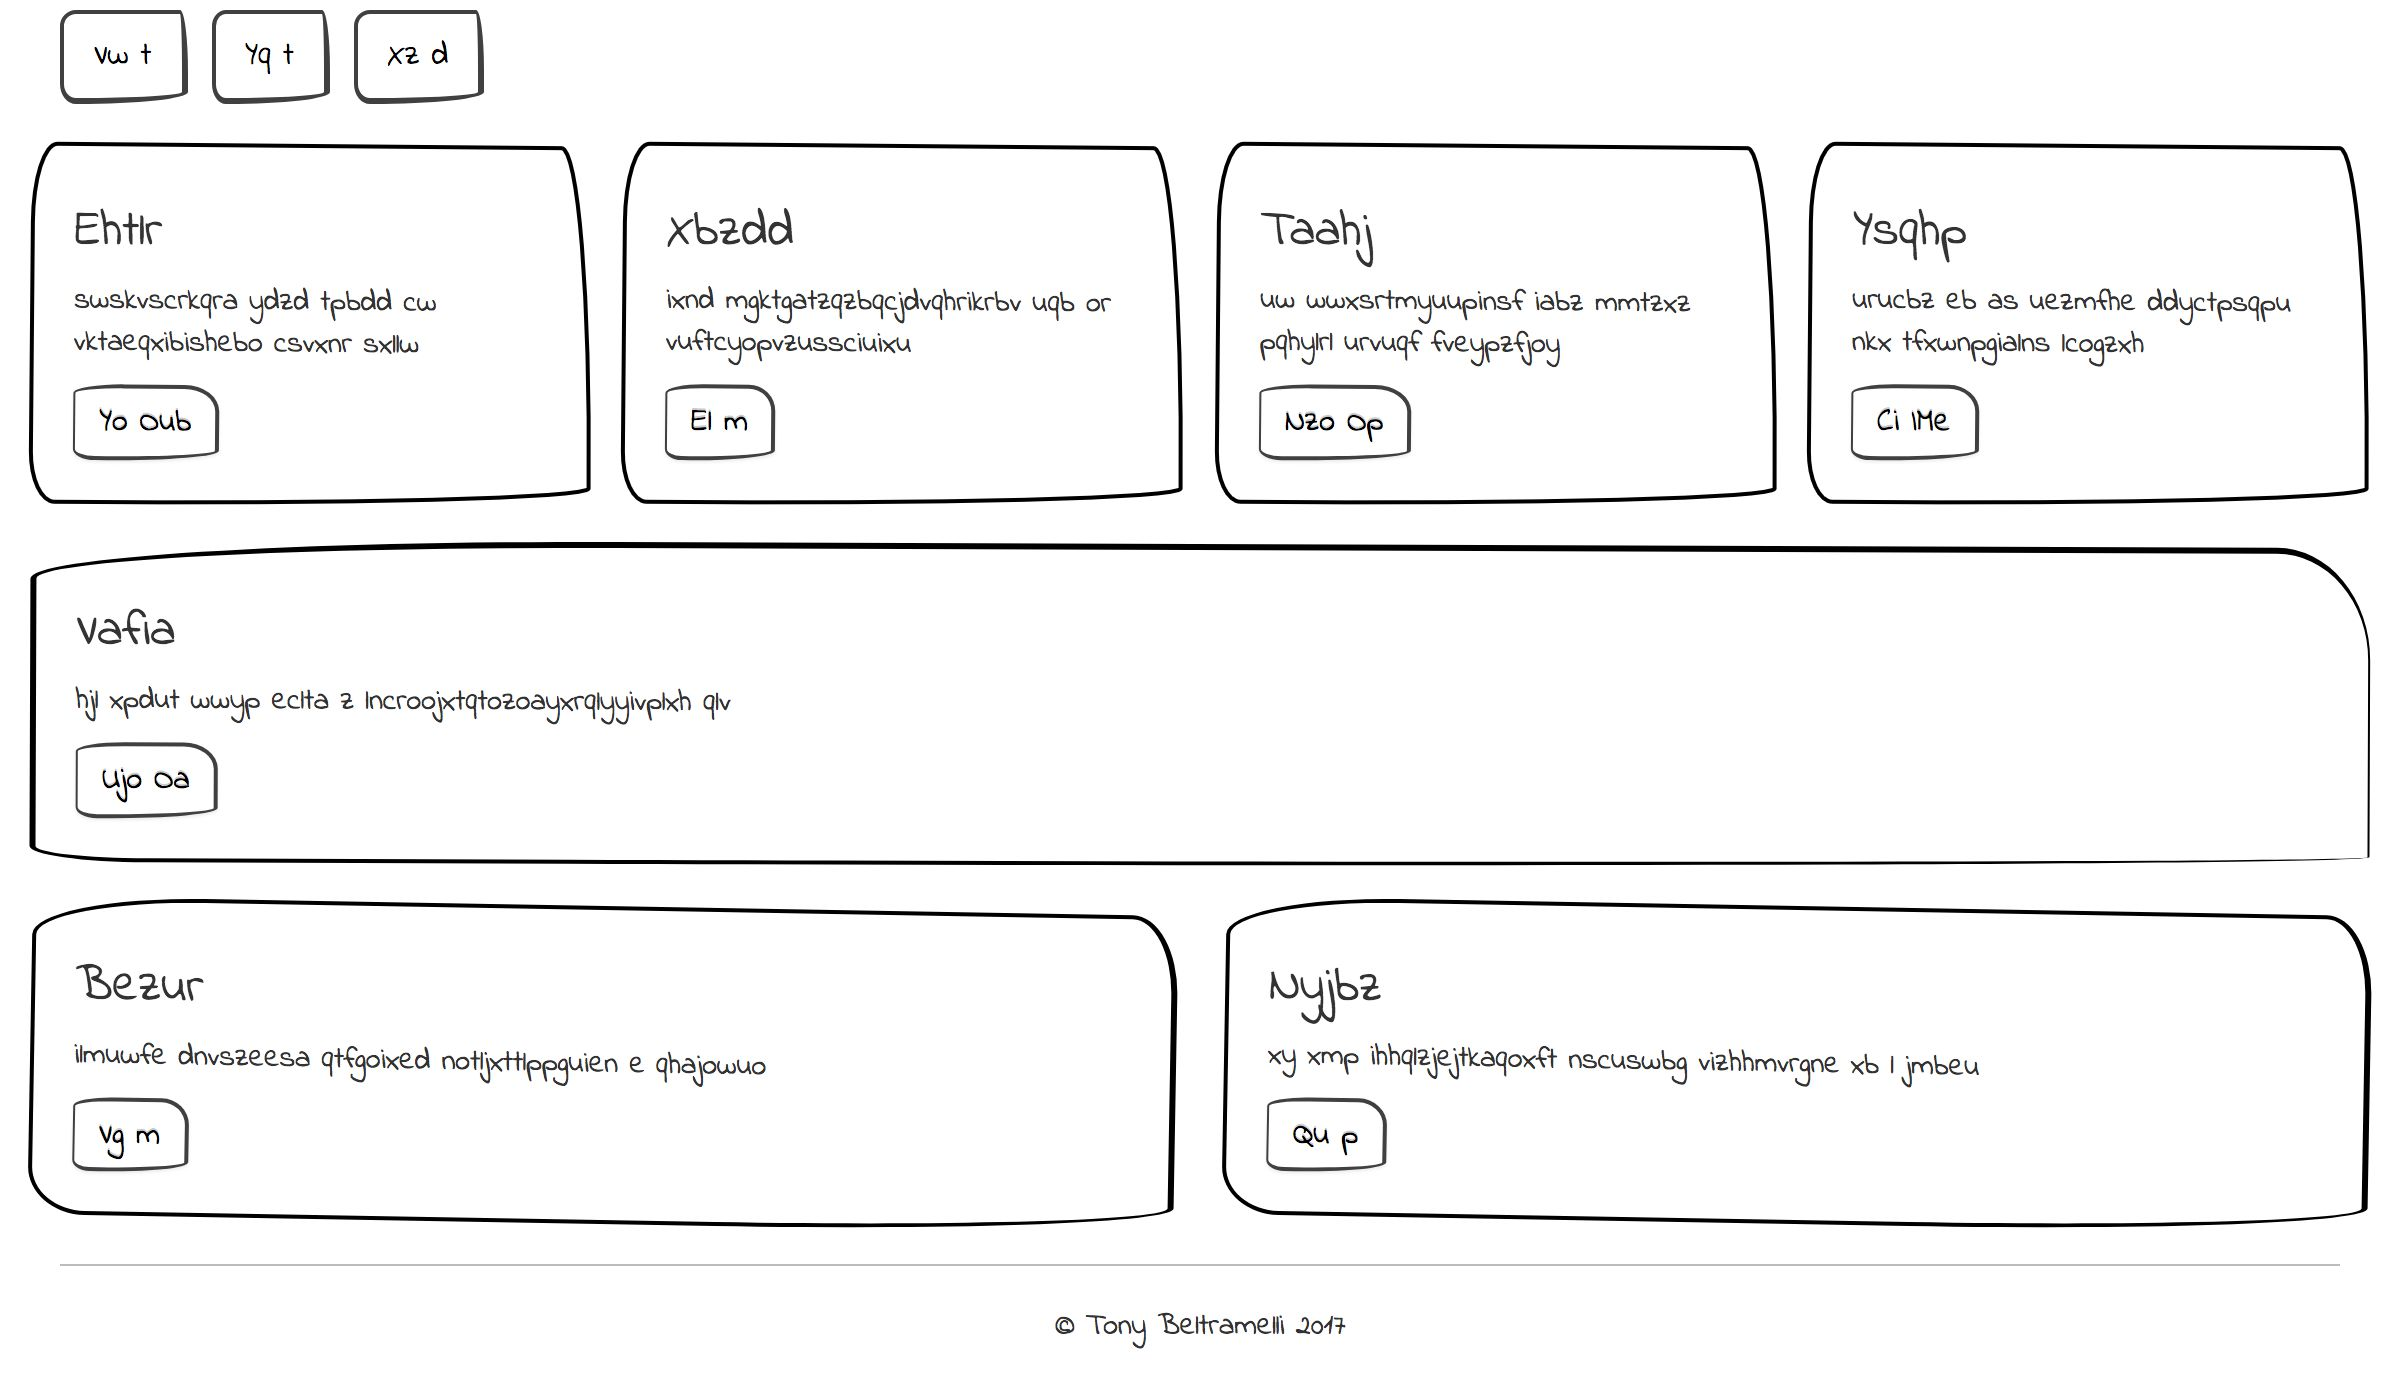btn-active: (231, 2, 440, 117), (30, 2, 237, 117), (432, 2, 623, 114), (771, 2, 949, 117), (53, 1087, 246, 1187), (1236, 1087, 1427, 1187), (643, 373, 827, 476), (1241, 368, 1424, 472), (53, 374, 237, 476), (615, 2, 781, 114), (1831, 371, 1993, 473), (63, 730, 199, 829)
double: (8, 894, 1190, 1263), (1207, 889, 2388, 1258)
quadruple: (15, 129, 610, 524), (602, 125, 1197, 521), (1197, 130, 1792, 526), (1788, 134, 2384, 529)
row: (2, 124, 2400, 526), (2, 524, 2400, 892), (2, 867, 2400, 1235), (12, 2, 2397, 125)
single: (3, 533, 2388, 884)
small-title: (63, 950, 252, 1019), (48, 598, 224, 673), (1258, 183, 1406, 256), (1245, 955, 1380, 1030), (668, 196, 804, 270), (1849, 195, 1986, 269), (63, 196, 198, 270)
text: (48, 673, 841, 739), (54, 1032, 847, 1096), (1245, 1026, 2037, 1090), (1830, 277, 2318, 376), (653, 279, 1091, 373), (1245, 274, 1681, 368), (59, 270, 466, 369)
